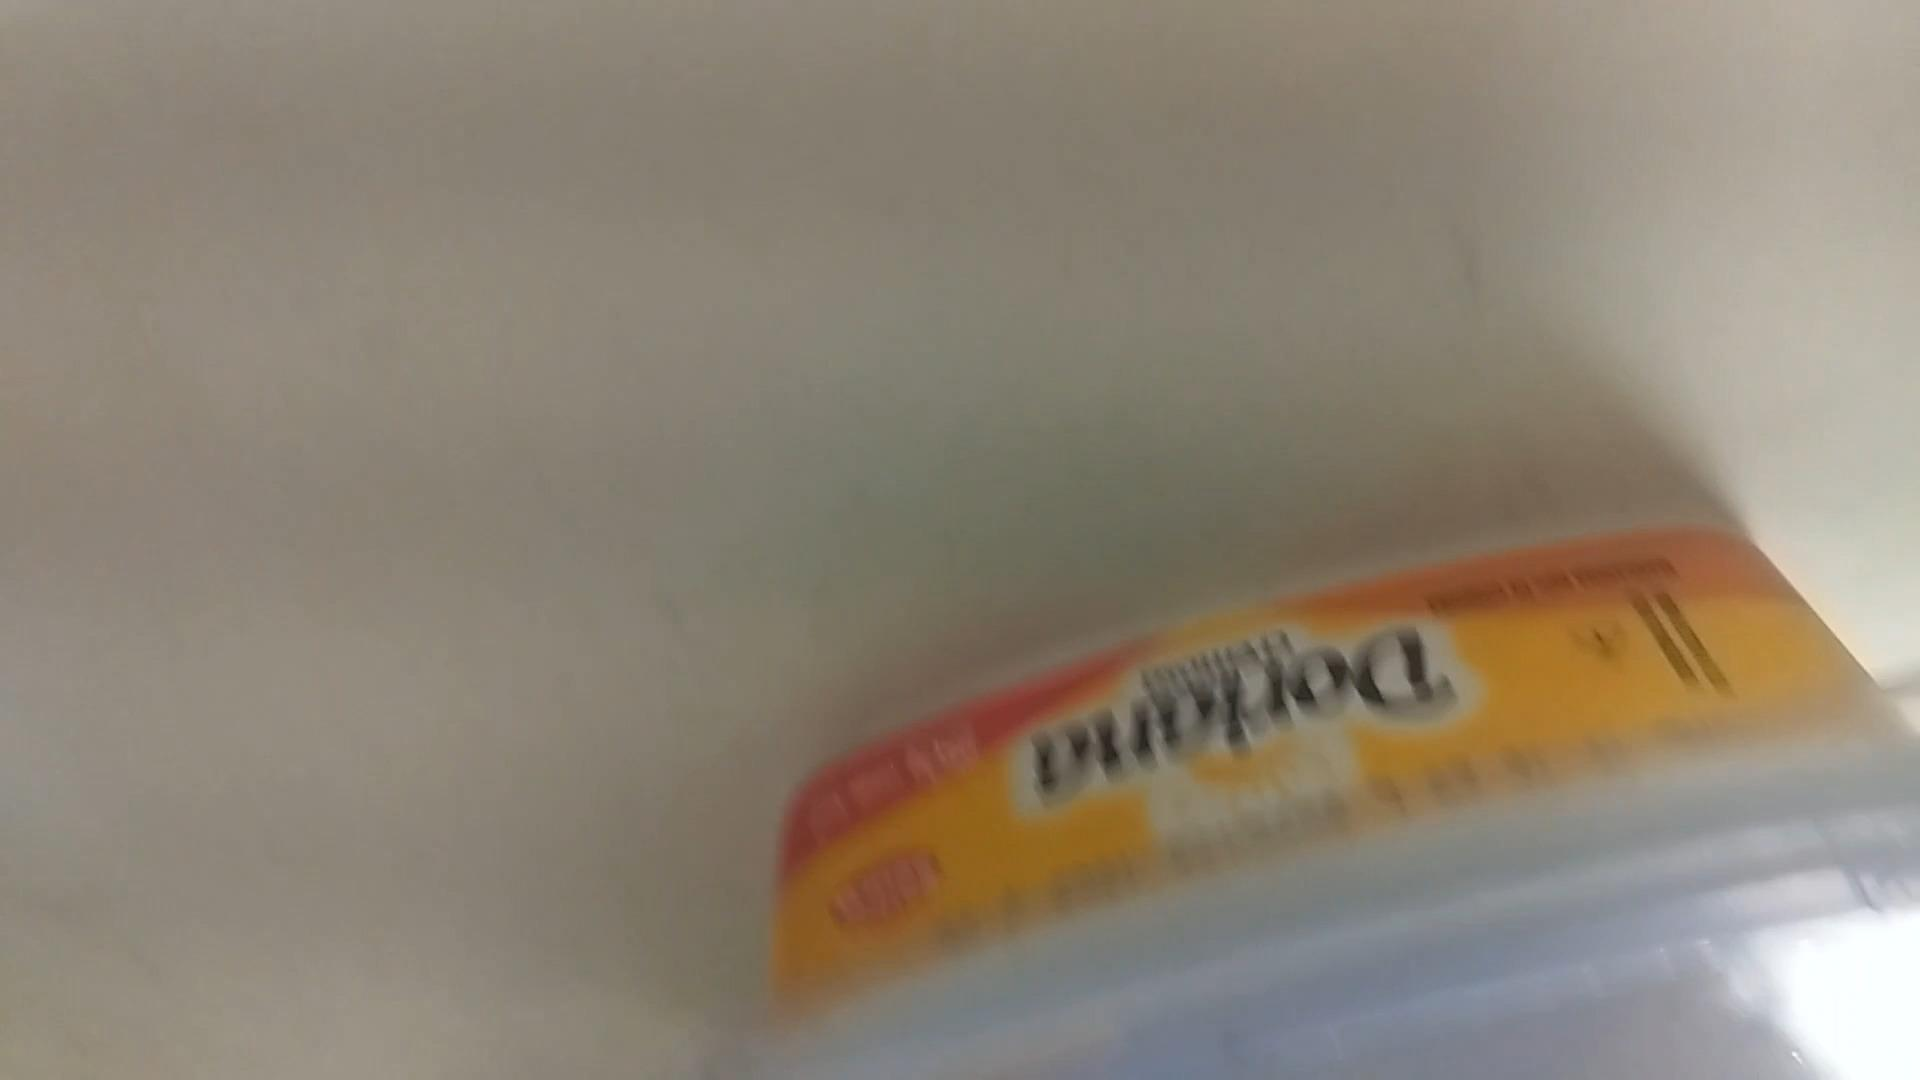butter: (746, 520, 1920, 1080)
